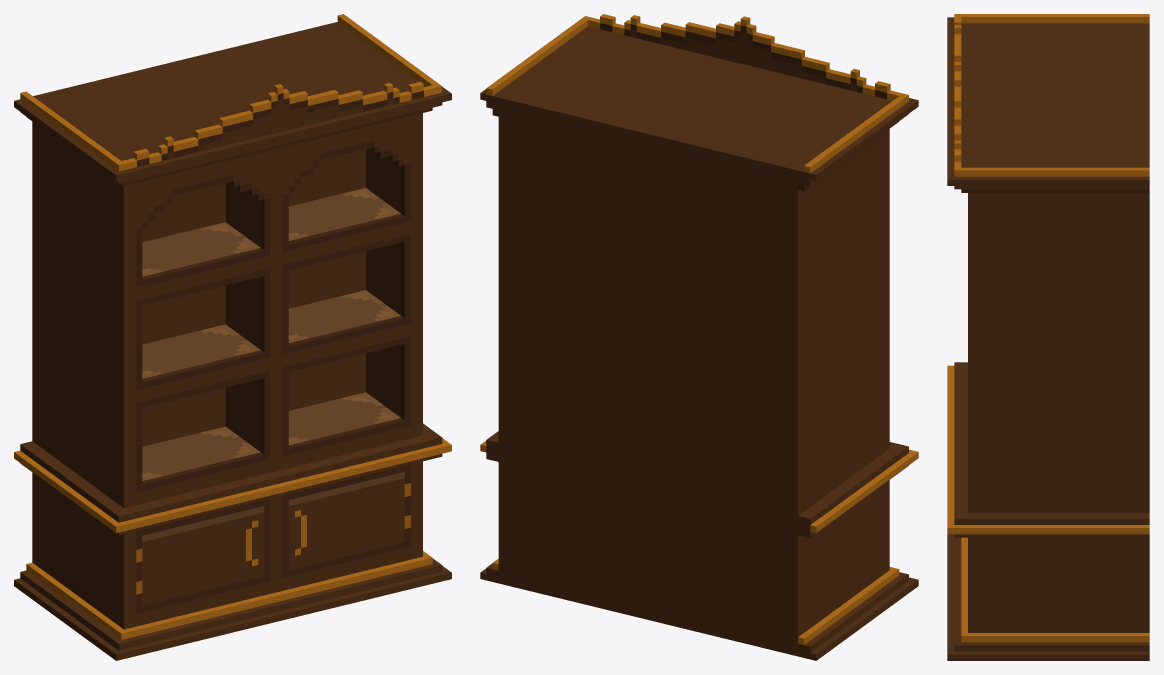
Rendered from Librero1.fbx.
The picture shows the model from 3 angles, left to right: view 1: azimuth 30°, elevation 25°; view 2: azimuth 150°, elevation 25°; view 3: azimuth 270°, elevation 25°; orthographic projection.
Parts seen in each view (by area): view 1: Librero1; view 2: Librero1; view 3: Librero1.
Boxes of the visible parts, x1=… form: Librero1: x1=14, y1=14, x2=451, y2=660; Librero1: x1=480, y1=14, x2=918, y2=660; Librero1: x1=947, y1=14, x2=1149, y2=660.
Size of the model in its own units: 5.5 by 8.3 by 2.9.
